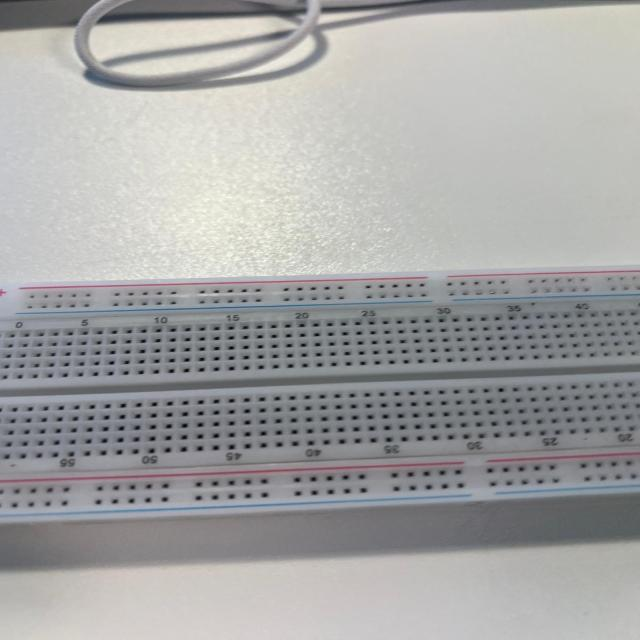BreadBoard: (11, 274, 638, 511)
